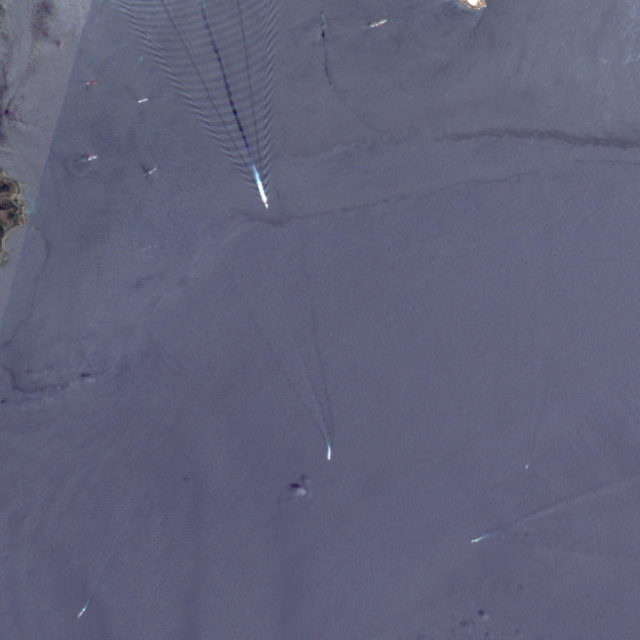wake: (151, 6, 325, 236)
